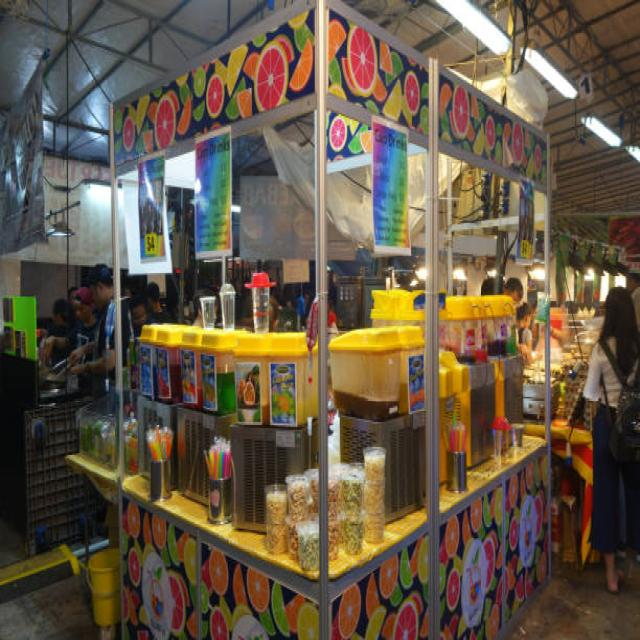Emperan: (71, 10, 594, 640)
